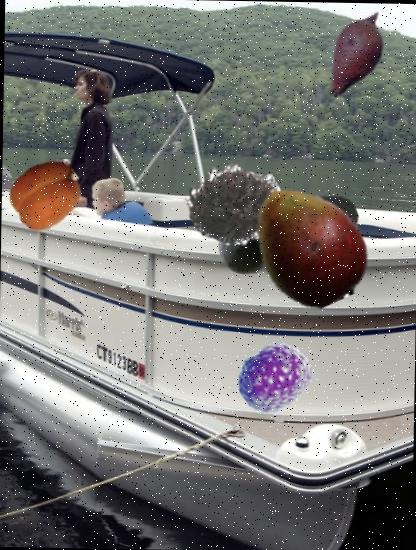Apricot: (9, 156, 83, 230)
Avocado: (282, 186, 361, 264)
Mango: (246, 179, 374, 308)
Plum: (215, 220, 271, 276)
Rambutan: (188, 158, 284, 254)
Raspberry: (235, 338, 314, 417)
Salak: (306, 4, 404, 102)
